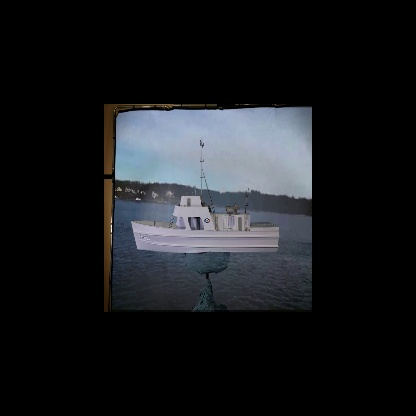YP689: (126, 130, 284, 254)
